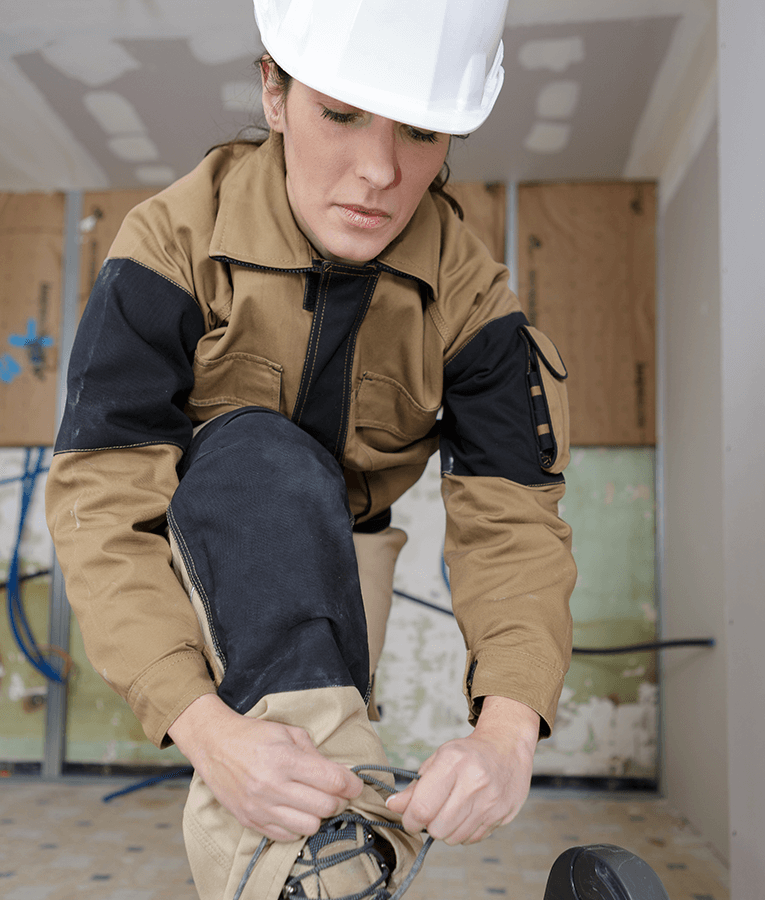hard hat: (250, 1, 507, 137)
